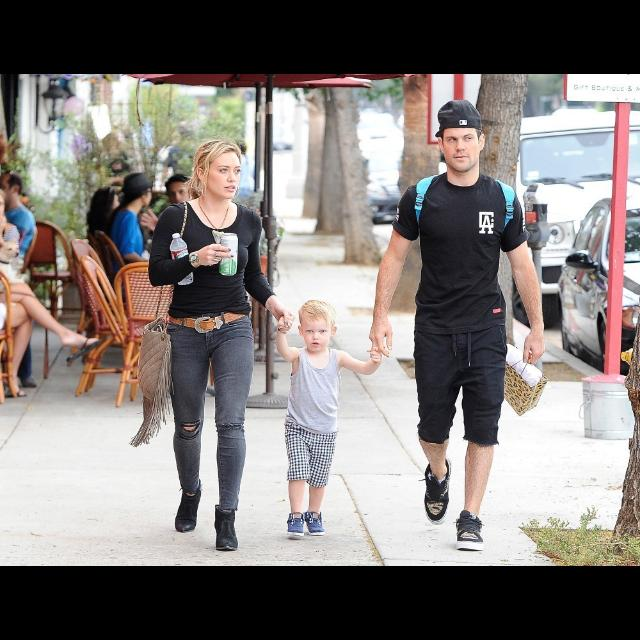head: (196, 140, 242, 200), (437, 119, 488, 173), (297, 300, 337, 354), (91, 185, 123, 225), (124, 172, 154, 208), (0, 170, 24, 209), (166, 177, 194, 209), (0, 189, 14, 223), (0, 187, 12, 220)
person: (364, 91, 560, 561), (142, 131, 302, 561), (263, 294, 392, 542), (0, 185, 104, 402), (101, 171, 222, 353), (138, 171, 266, 339), (86, 180, 184, 338), (0, 182, 42, 389), (0, 170, 48, 334)
